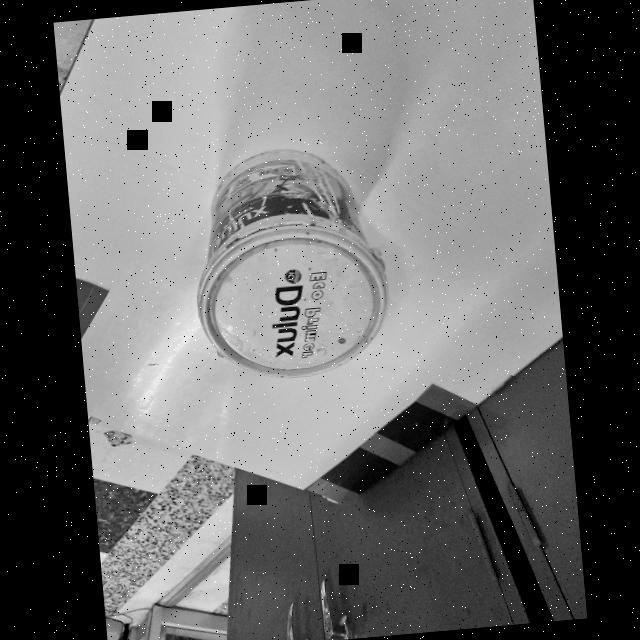paint_bucket: (164, 133, 412, 386)
